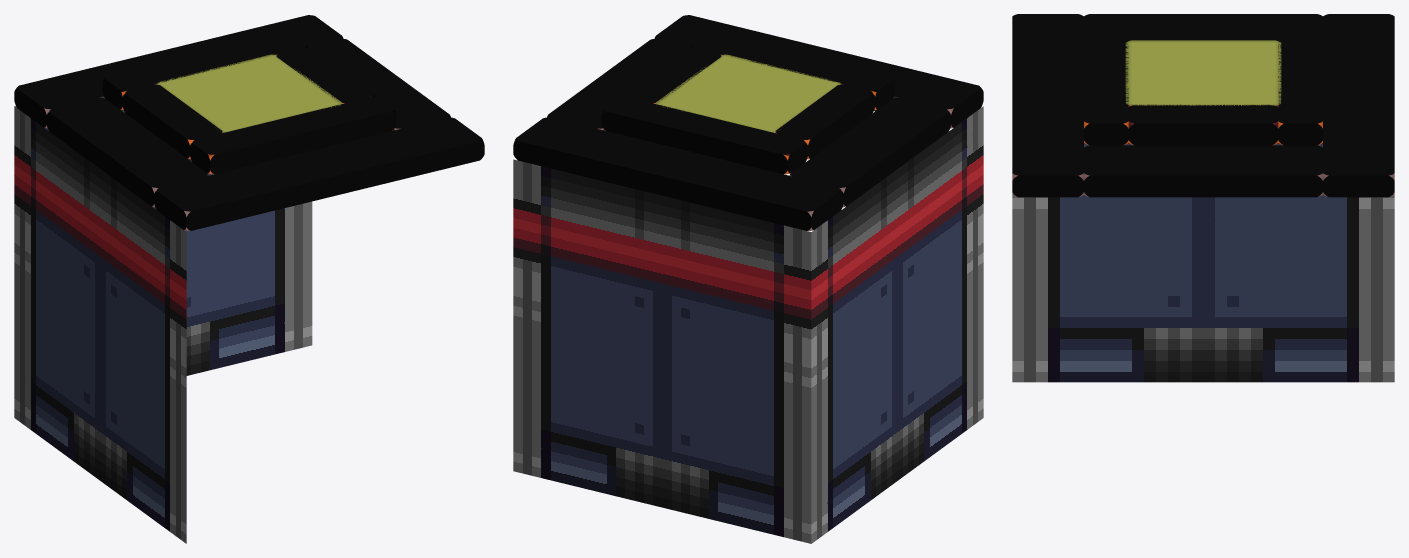
3 renders of one model, left to right at view 1: azimuth 30°, elevation 25°; view 2: azimuth 150°, elevation 25°; view 3: azimuth 270°, elevation 25°, orthographic. The views are drawn at different scales.
Visible parts, largest first — view 1: Roof, W, N; view 2: N, Roof, W; view 3: W, Roof.
Boxes of the visible parts, x1=… form: Roof: x1=14, y1=15, x2=484, y2=230; W: x1=14, y1=106, x2=186, y2=543; N: x1=15, y1=106, x2=312, y2=375; N: x1=513, y1=159, x2=811, y2=543; Roof: x1=513, y1=15, x2=983, y2=230; W: x1=811, y1=106, x2=983, y2=543; W: x1=1012, y1=105, x2=1394, y2=382; Roof: x1=1012, y1=14, x2=1394, y2=197.
Size of the model in its own units: 2 by 2.25 by 2.
2 materials, 2 textured.
